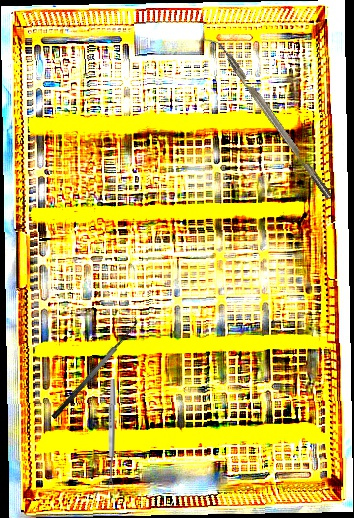Chopper: (202, 29, 333, 206)
Spatula Surgical: (42, 313, 145, 421)
Surgical Spoon: (107, 378, 116, 490)
